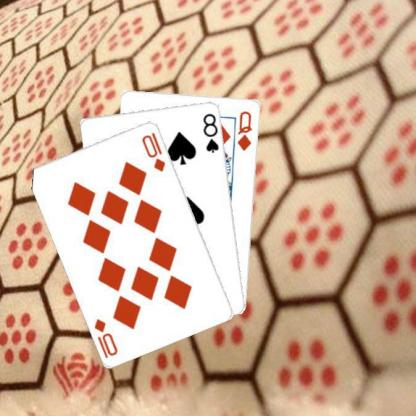10D: (93, 315, 121, 360), (141, 129, 169, 173)
8S: (202, 110, 223, 154)
QD: (236, 108, 256, 152)
